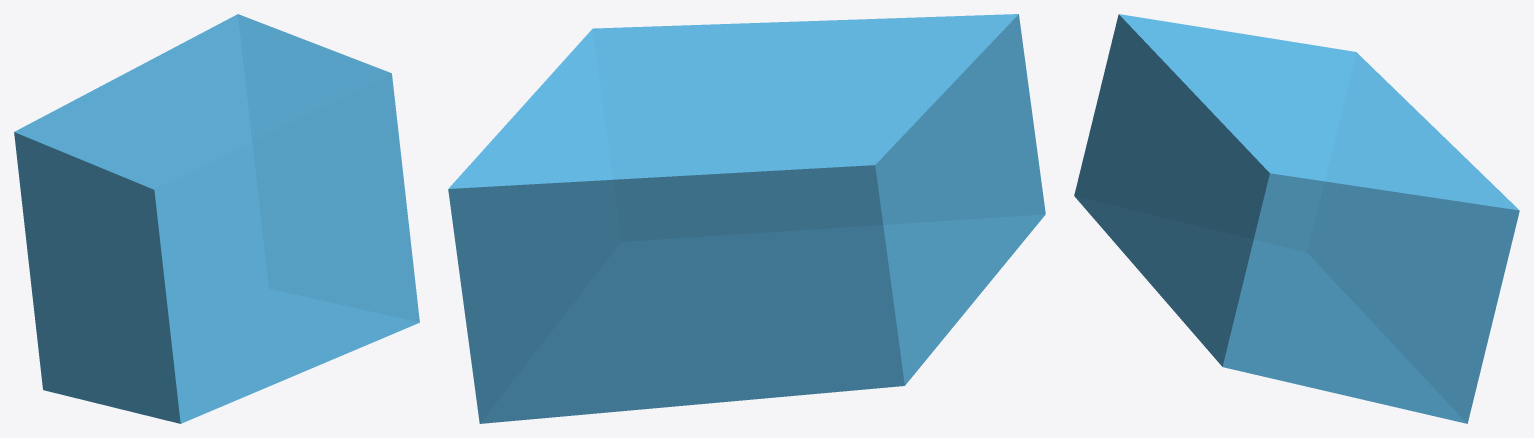
Rendered from Event_420107950_HErechit_15.fbx.
3 renders of one model, left to right at view 1: azimuth 30°, elevation 25°; view 2: azimuth 150°, elevation 25°; view 3: azimuth 270°, elevation 25°, orthographic. The views are drawn at different scales.
Visible parts, largest first — view 1: Model; view 2: Model; view 3: Model.
Boxes of the visible parts, x1,y1,x2,y2 form: Model: (14,14,419,423); Model: (448,14,1045,423); Model: (1074,14,1519,423).
Size of the model in its own units: 0.6782 by 0.6498 by 0.9458.
